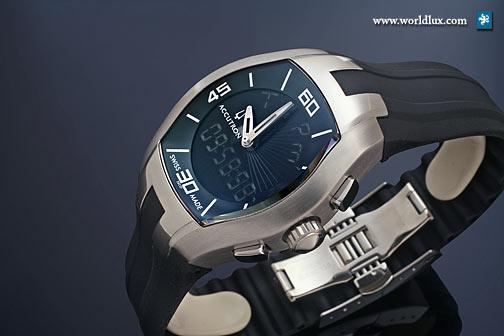watch: (140, 53, 383, 254)
